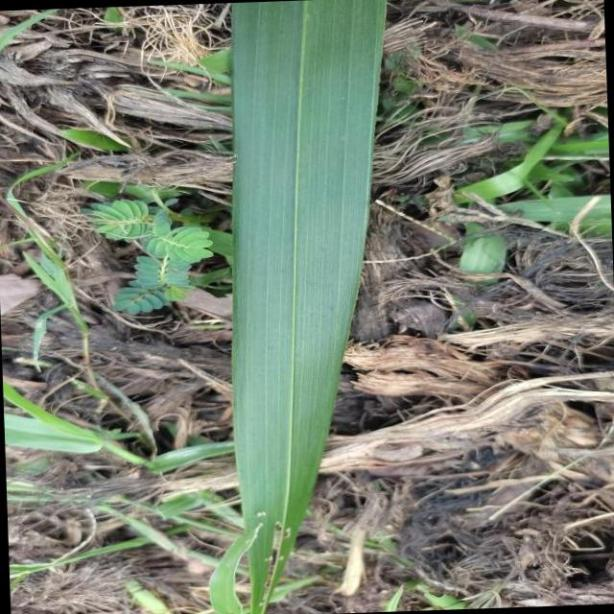Boron: (230, 0, 390, 614)
